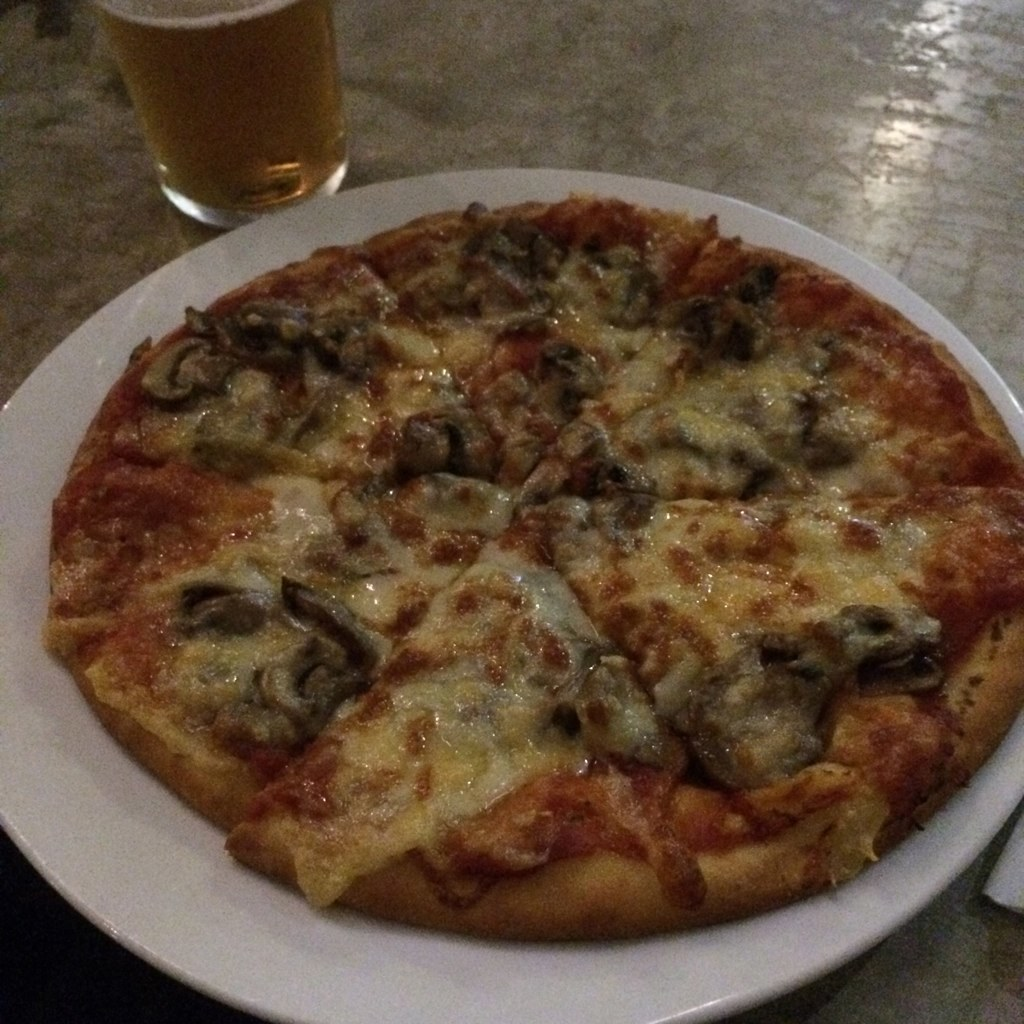Pizza: (42, 184, 1022, 954)
